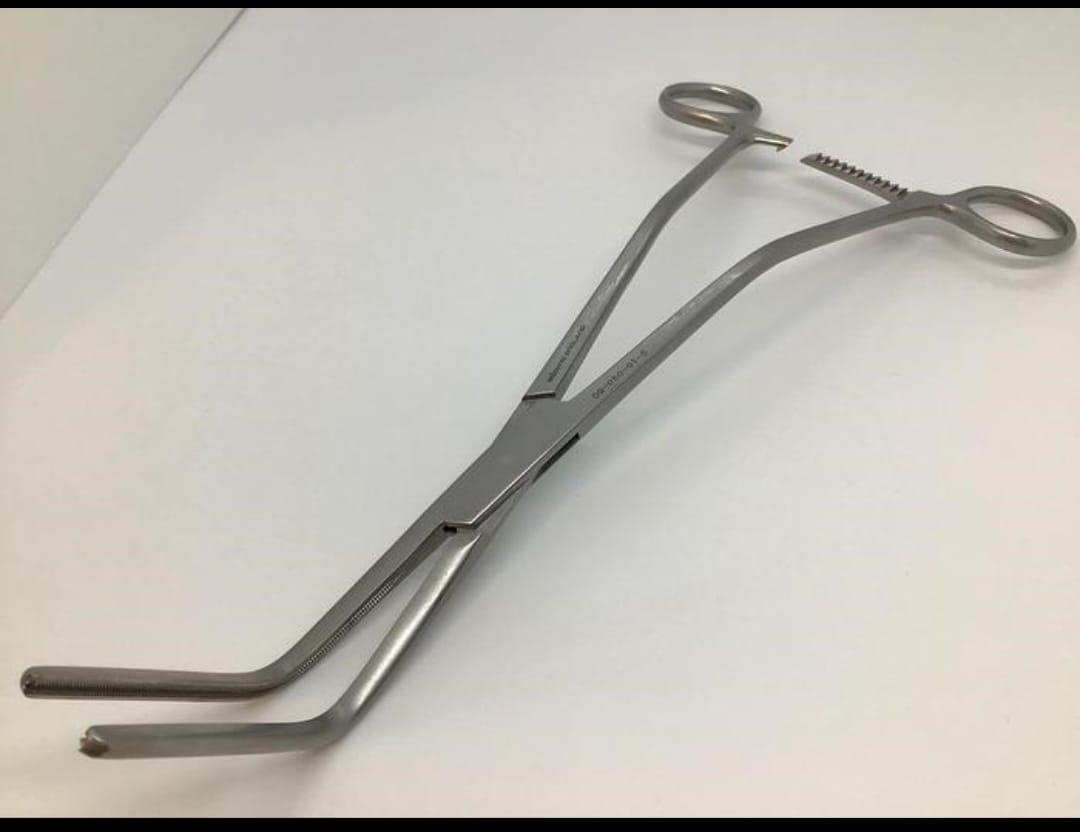Surgical blade: (14, 78, 1073, 771)
